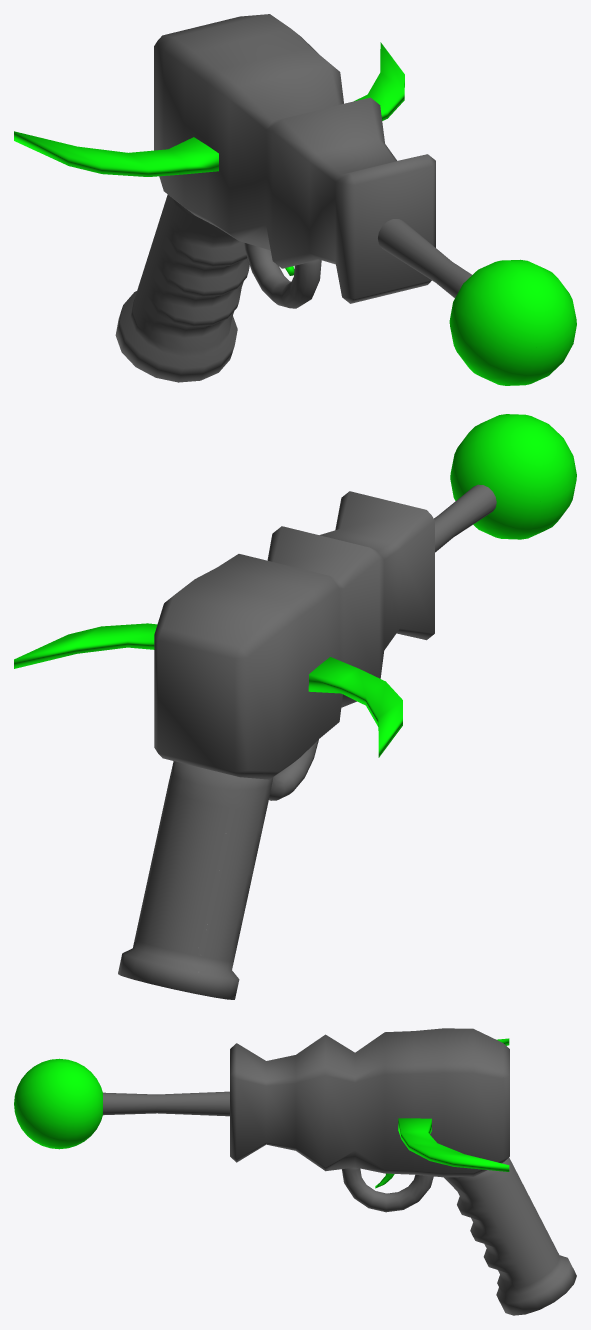
The model's file is LaserGun.fbx.
3 views of the same model, one above another, from view 1: azimuth 30°, elevation 25°; view 2: azimuth 150°, elevation 25°; view 3: azimuth 270°, elevation 25° (orthographic). The views are drawn at different scales.
Visible parts, largest first — view 1: LaserGun_Bory, LaserGun_Grip, LazerGun_MuzzleOrb, Wing_R, LaserGun_Barrel, LaserGun_TriggerGuard, Wing_L; view 2: LaserGun_Bory, LaserGun_Grip, LazerGun_MuzzleOrb, Wing_R, Wing_L, LaserGun_Barrel, LaserGun_TriggerGuard; view 3: LaserGun_Bory, LaserGun_Grip, LazerGun_MuzzleOrb, LaserGun_Barrel, Wing_L, LaserGun_TriggerGuard.
Part boxes in pixels (x1,y1,x2,y2): LaserGun_Bory: (154,14,435,303); LaserGun_Grip: (115,194,249,382); LazerGun_MuzzleOrb: (449,259,576,385); Wing_R: (14,131,218,176); LaserGun_Barrel: (378,219,471,297); LaserGun_TriggerGuard: (244,242,321,308); Wing_L: (354,42,404,120); LaserGun_Bory: (154,491,434,779); LaserGun_Grip: (118,761,273,999); LazerGun_MuzzleOrb: (450,414,576,539); Wing_R: (308,657,402,757); Wing_L: (14,623,157,668); LaserGun_Barrel: (434,484,496,552); LaserGun_TriggerGuard: (269,739,318,800); LaserGun_Bory: (230,1028,509,1177); LaserGun_Grip: (444,1157,576,1315); LazerGun_MuzzleOrb: (14,1058,102,1149); LaserGun_Barrel: (103,1091,229,1116); Wing_L: (398,1118,509,1171); LaserGun_TriggerGuard: (342,1167,433,1212).
Bounding box in the file's own units: 35.32 × 34.1 × 66.24.
